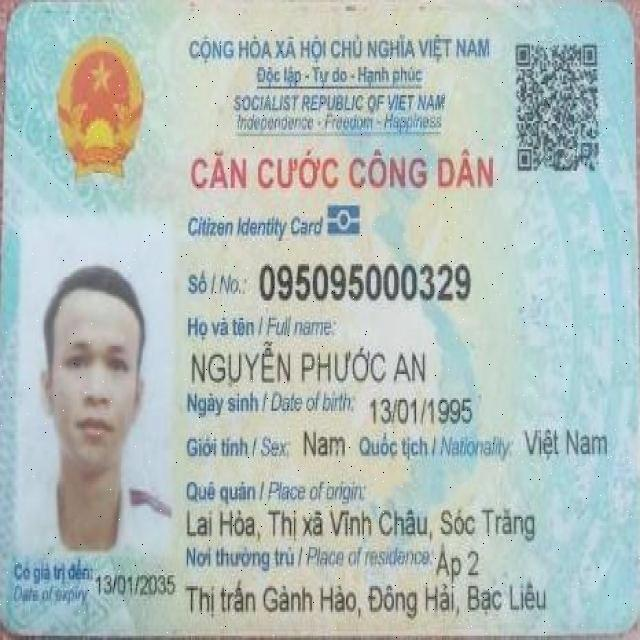current_place: (180, 571, 552, 618), (433, 545, 489, 584)
dob: (367, 392, 479, 429)
expire_date: (93, 565, 179, 598)
gender: (296, 420, 352, 460)
id: (255, 255, 475, 310)
name: (185, 338, 433, 389)
nationality: (519, 414, 613, 466)
origin_place: (181, 503, 546, 546)
qr: (508, 34, 608, 182)
